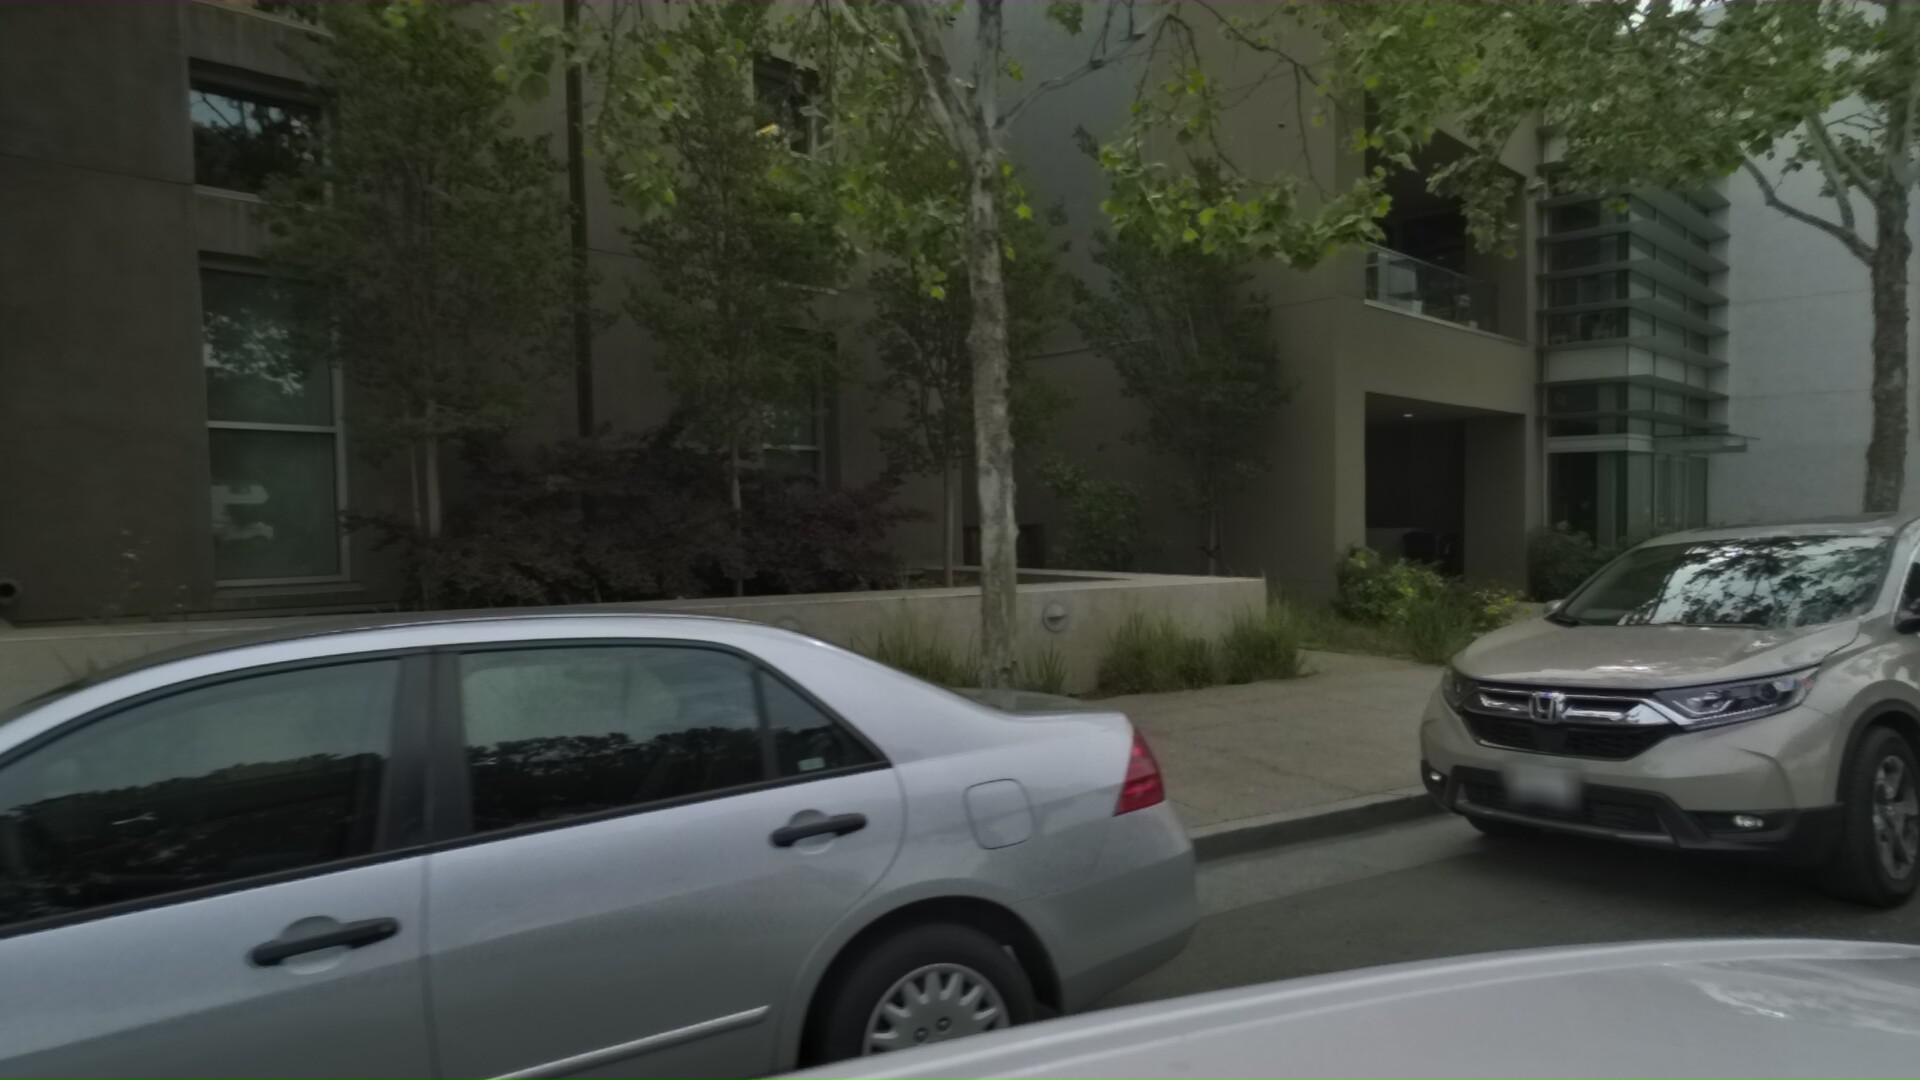car: (0, 539, 1418, 1080), (1443, 498, 1920, 960)
